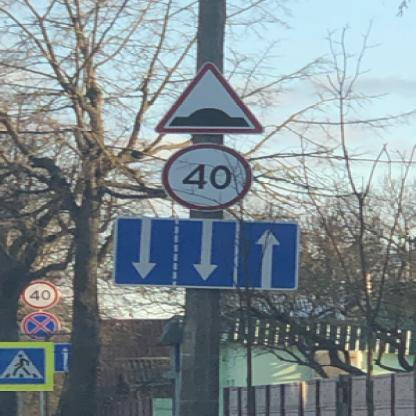crosswalk: (0, 346, 45, 385)
speedlimit: (158, 142, 250, 210), (20, 280, 56, 304)
